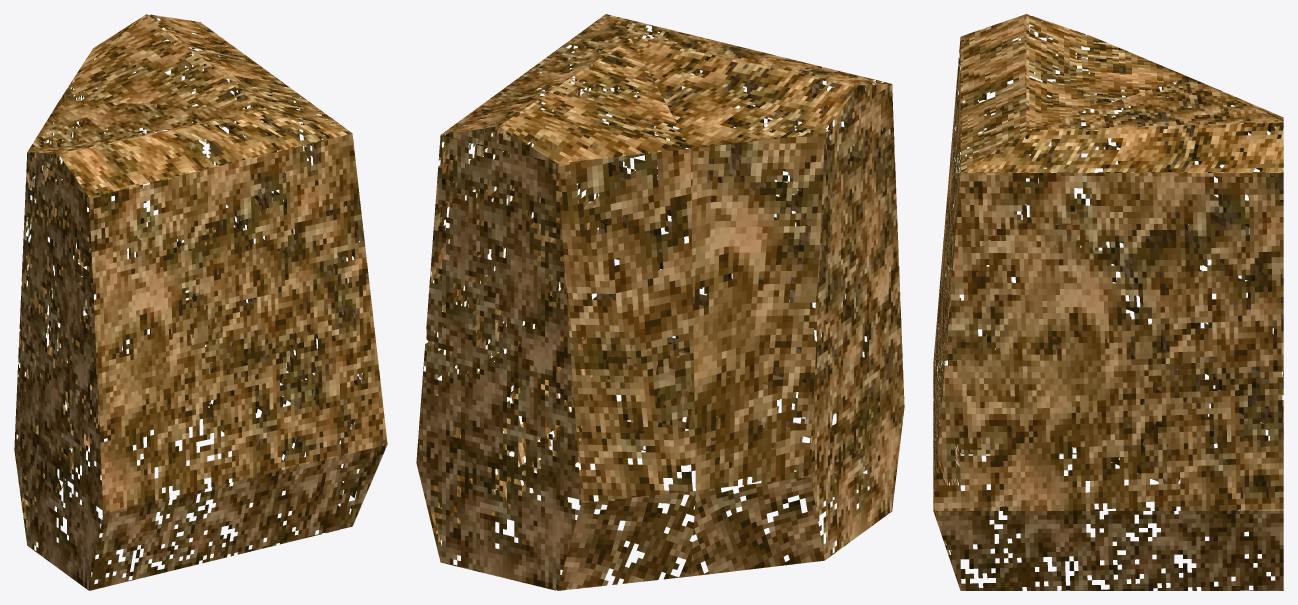
The model's file is bush_long_square_corner_filled_autumn.glb.
3 views of the same model, side by side, from view 1: azimuth 30°, elevation 25°; view 2: azimuth 150°, elevation 25°; view 3: azimuth 270°, elevation 25° (orthographic). The views are drawn at different scales.
Parts seen in each view (by area): view 1: bush_long_square_corner_filled_autumn; view 2: bush_long_square_corner_filled_autumn; view 3: bush_long_square_corner_filled_autumn.
Boxes of the visible parts, x1,y1,x2,y2 form: bush_long_square_corner_filled_autumn: (14,14,387,590); bush_long_square_corner_filled_autumn: (416,14,904,590); bush_long_square_corner_filled_autumn: (933,14,1283,590).
Bounding box in the file's own units: 1.35 × 1.88 × 1.35.
Materials: 1 (1 with a texture image).
